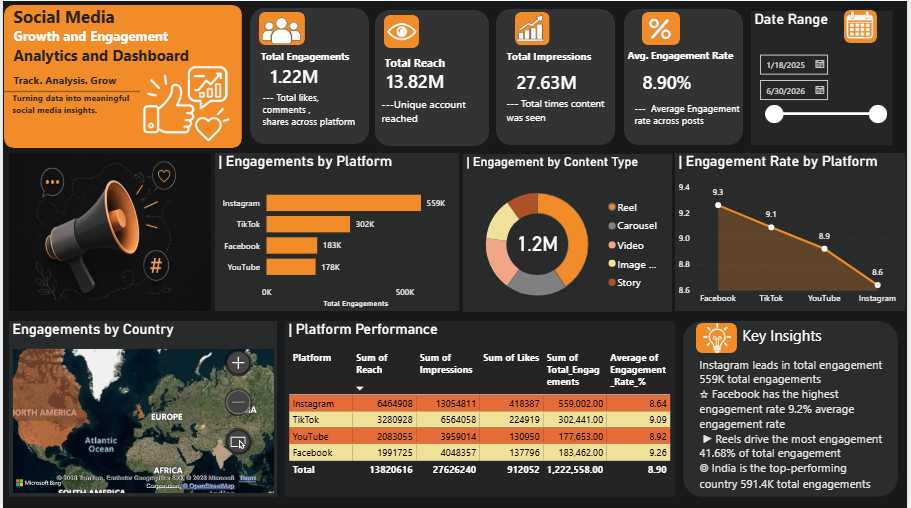

What the dashboard file says about the page in this screenshot:
{"tool":"powerbi","page":{"name":"Page 1","canvas":[1280,720],"ordinal":0},"visuals":[{"type":"shape","box":[963.8,453.5,304.7,249.4],"z":0},{"type":"shape","box":[350.1,9.9,168.7,192.8],"z":1000},{"type":"shape","box":[527.2,12.8,161.6,192.8],"z":2000},{"type":"shape","box":[698.7,11.3,168.7,192.8],"z":3000},{"type":"shape","box":[1.4,5.7,337.3,202.7],"z":4000},{"type":"textbox","box":[9.9,0,265,112],"z":5000},{"type":"textbox","box":[10,97,158,34],"z":6000},{"type":"shape","box":[0,102,194.2,52.4],"z":7000},{"type":"textbox","box":[9,124,185,63],"z":8000},{"type":"textbox","box":[316.1,63.8,223.9,32.6],"z":9000},{"type":"shape","box":[362.8,15.6,65.2,46.8],"z":10000},{"type":"cardVisual","fields":{"Data":["social_media_analysis.Total Engagements"]},"box":[350.1,70.9,147.4,68],"z":11000},{"type":"textbox","box":[362.8,123.3,147.4,62.4],"z":12000},{"type":"textbox","box":[535.7,70.9,209.8,42.5],"z":13000},{"type":"shape","box":[540,19.8,49.6,46.8],"z":14000},{"type":"cardVisual","fields":{"Data":["social_media_analysis.Total Reach"]},"box":[514.5,62.4,194,98],"z":15000},{"type":"textbox","box":[531.5,130.4,151.7,55.3],"z":16000},{"type":"shape","box":[880.2,11.3,168.7,192.8],"z":17000},{"type":"cardVisual","fields":{"Data":["social_media_analysis.Total Impressions"]},"box":[698.7,82.2,169,63],"z":18000},{"type":"shape","box":[725.7,15.6,49,47],"z":19000},{"type":"textbox","box":[708.7,62.4,181.4,34],"z":20000},{"type":"shape","box":[905.7,15.6,53.9,46.8],"z":21000},{"type":"textbox","box":[708.7,130.4,168.7,65.2],"z":22000},{"type":"textbox","box":[880.2,62.4,191.3,83.6],"z":23000},{"type":"cardVisual","fields":{"Data":["social_media_analysis.Avg Engagement Rate Display"]},"box":[877.3,79.4,194.2,68],"z":24000},{"type":"textbox","box":[890.1,138.9,184.3,56.7],"z":25000},{"type":"clusteredBarChart","title":"| Engagements by Platform","fields":{"Category":["social_media_analysis.Platform"],"Y":["social_media_analysis.Total Engagements"]},"box":[300.5,215.4,345.8,223.9],"z":26000},{"type":"donutChart","title":"| Engagement by Content Type","fields":{"Category":["social_media_analysis.Content_Type"],"Y":["social_media_analysis.Total Engagements"]},"box":[652,216.9,296.2,223.9],"z":27000},{"type":"lineChart","title":"| Engagement Rate by Platform","fields":{"Category":["social_media_analysis.Platform"],"Y":["Avg(social_media_analysis.Engagement_Rate_%)"]},"box":[952.4,215.4,327.4,223.9],"z":28000},{"type":"tableEx","title":"| Platform Performance","fields":{"Values":["social_media_analysis.Platform","Sum(social_media_analysis.Reach)","Sum(social_media_analysis.Impressions)","Sum(social_media_analysis.Likes)","Sum(social_media_analysis.Total_Engagements)","Avg(social_media_analysis.Engagement_Rate_%)"]},"box":[399.7,453.5,552.8,249.4],"z":29000},{"type":"image","box":[8.5,215.4,286.3,223.9],"z":31000},{"type":"image","box":[167.2,89.3,182.8,113.4],"z":32000},{"type":"shape","box":[982.2,456.4,58.1,42.5],"z":33000},{"type":"textbox","box":[1043.1,453.5,172.9,45.4],"z":34000},{"type":"textbox","box":[982.2,498.9,270.7,221.1],"z":35000},{"type":"slicer","title":"Date Range","fields":{"Values":["social_media_analysis.Date"]},"box":[1060.2,14.2,201.3,189.9],"z":36000},{"type":"filledMap","title":"Engagements by Country","fields":{"Category":["social_media_analysis.Country"]},"box":[8.5,453.5,379.8,249.4],"z":37000},{"type":"image","box":[542.8,15.6,45.4,55.3],"z":38000},{"type":"shape","box":[1192,12.8,46.8,46.8],"z":40000},{"type":"image","box":[1192,1.4,45.4,65.2],"z":42000},{"type":"image","box":[989.3,456.4,45.4,42.5],"z":43000},{"type":"image","box":[890.1,11.3,83.6,56.7],"z":43001},{"type":"image","box":[712.9,12.8,72.3,49.6],"z":43002},{"type":"image","box":[348.7,5.7,92.1,70.9],"z":43003}]}

Visuals, with their boxes in screenshot pixels (x1, y1, x2, y2), scaled from the page's 1280x720 canvas onto the 911x508 screenshot:
shape: bbox=[686, 320, 903, 496]
shape: bbox=[249, 7, 369, 143]
shape: bbox=[375, 9, 490, 145]
shape: bbox=[497, 8, 617, 144]
shape: bbox=[1, 4, 241, 147]
textbox: bbox=[7, 0, 196, 79]
textbox: bbox=[7, 68, 120, 92]
shape: bbox=[0, 72, 138, 109]
textbox: bbox=[6, 87, 138, 132]
textbox: bbox=[225, 45, 384, 68]
shape: bbox=[258, 11, 305, 44]
cardVisual - social_media_analysis.Total Engagements: bbox=[249, 50, 354, 98]
textbox: bbox=[258, 87, 363, 131]
textbox: bbox=[381, 50, 531, 80]
shape: bbox=[384, 14, 420, 47]
cardVisual - social_media_analysis.Total Reach: bbox=[366, 44, 504, 113]
textbox: bbox=[378, 92, 486, 131]
shape: bbox=[626, 8, 747, 144]
cardVisual - social_media_analysis.Total Impressions: bbox=[497, 58, 618, 102]
shape: bbox=[516, 11, 551, 44]
textbox: bbox=[504, 44, 634, 68]
shape: bbox=[645, 11, 683, 44]
textbox: bbox=[504, 92, 624, 138]
textbox: bbox=[626, 44, 763, 103]
cardVisual - social_media_analysis.Avg Engagement Rate Display: bbox=[624, 56, 763, 104]
textbox: bbox=[634, 98, 765, 138]
"| Engagements by Platform" clusteredBarChart: bbox=[214, 152, 460, 310]
"| Engagement by Content Type" donutChart: bbox=[464, 153, 675, 311]
"| Engagement Rate by Platform" lineChart: bbox=[678, 152, 910, 310]
"| Platform Performance" tableEx: bbox=[284, 320, 678, 496]
image: bbox=[6, 152, 210, 310]
image: bbox=[119, 63, 249, 143]
shape: bbox=[699, 322, 740, 352]
textbox: bbox=[742, 320, 865, 352]
textbox: bbox=[699, 352, 892, 507]
"Date Range" slicer: bbox=[755, 10, 898, 144]
"Engagements by Country" filledMap: bbox=[6, 320, 276, 496]
image: bbox=[386, 11, 419, 50]
shape: bbox=[848, 9, 882, 42]
image: bbox=[848, 1, 881, 47]
image: bbox=[704, 322, 736, 352]
image: bbox=[634, 8, 693, 48]
image: bbox=[507, 9, 559, 44]
image: bbox=[248, 4, 314, 54]
